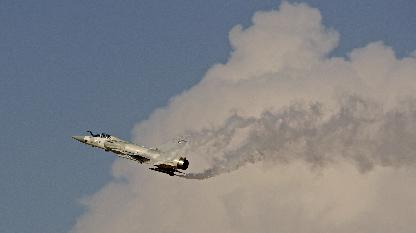Mirage2000: (70, 131, 190, 176)
